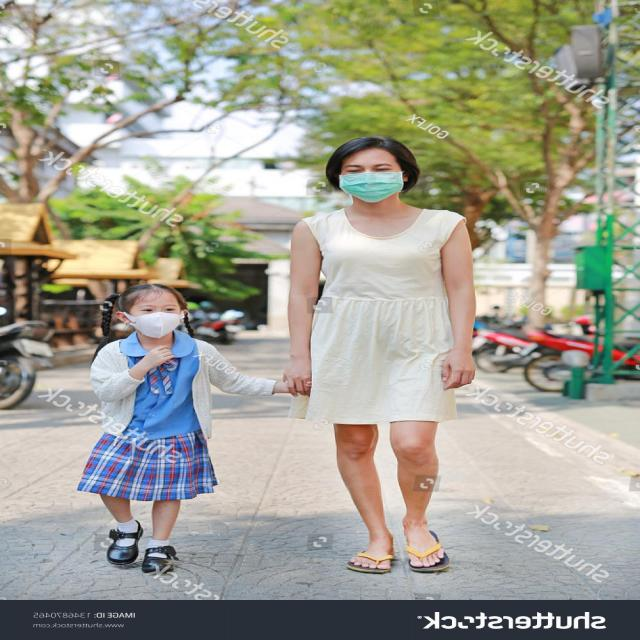face: (318, 134, 424, 206), (99, 280, 202, 343)
